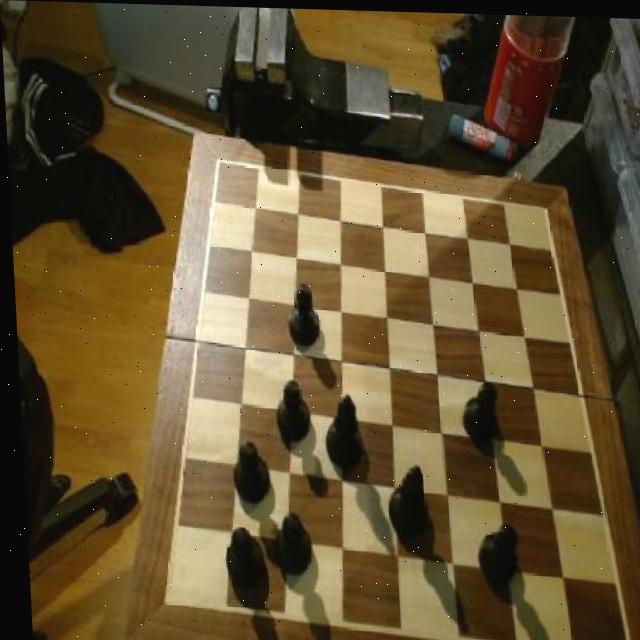bishop: (379, 459, 426, 542), (316, 389, 360, 471)
black-knight: (469, 518, 518, 588), (216, 525, 261, 595), (224, 437, 267, 510), (455, 375, 498, 447), (265, 507, 308, 579), (280, 279, 318, 349), (270, 375, 308, 442)
